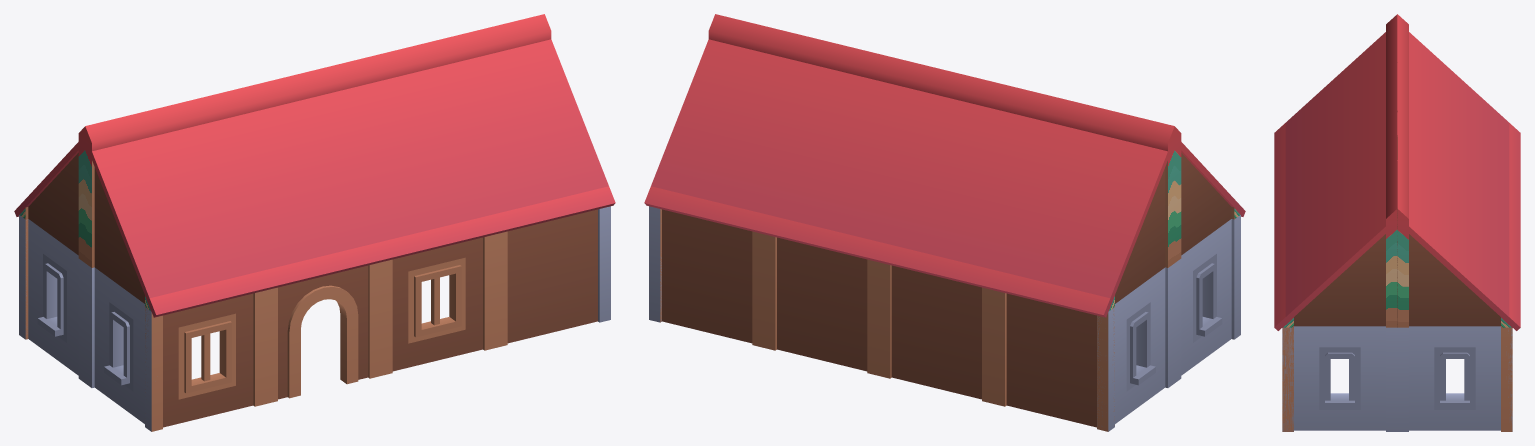
Rendered from house-longhouse.glb.
3 views of the same model, side by side, from view 1: azimuth 30°, elevation 25°; view 2: azimuth 150°, elevation 25°; view 3: azimuth 270°, elevation 25° (orthographic). The views are drawn at different scales.
Visible parts, largest first — view 1: house-longhouse; view 2: house-longhouse; view 3: house-longhouse.
Part boxes in pixels (box(x1,y1,x2,y2)): house-longhouse: box(14, 14, 615, 431); house-longhouse: box(644, 14, 1245, 431); house-longhouse: box(1274, 14, 1520, 431).
Size of the model in its own units: 4.1 by 2.14 by 2.14.
Materials: 5 (5 with a texture image).
